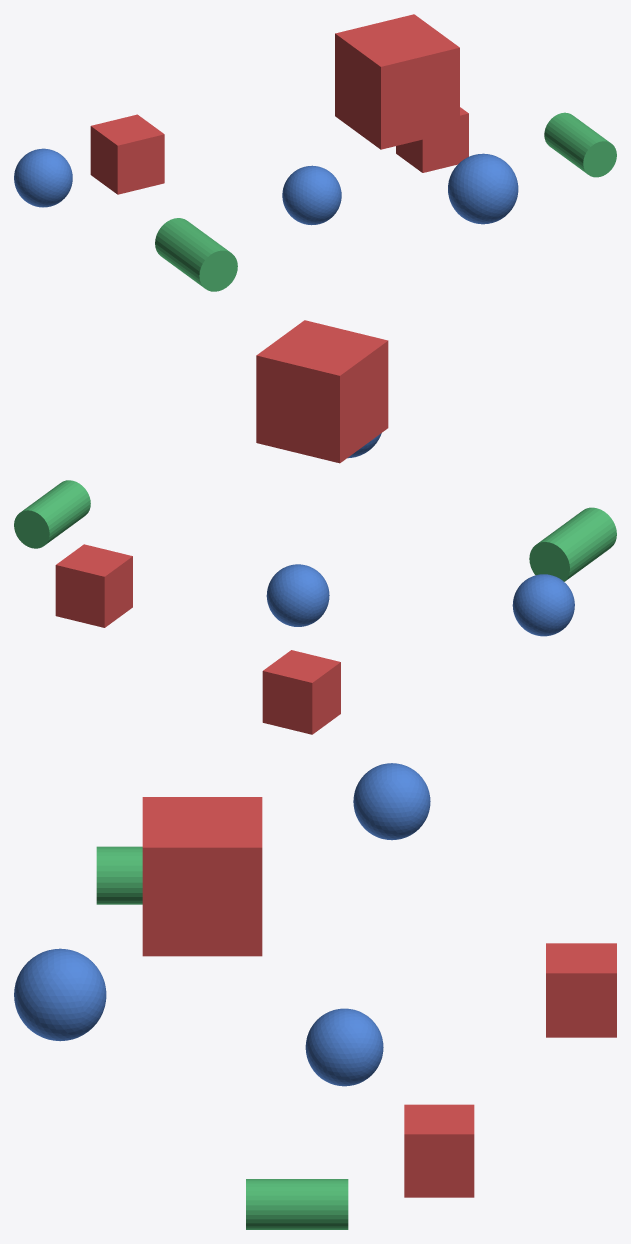
File: escena.obj
3 renders of one model, top to bottom at view 1: azimuth 30°, elevation 25°; view 2: azimuth 150°, elevation 25°; view 3: azimuth 270°, elevation 25°, orthographic. The views are drawn at different scales.
Parts seen in each view (by area): view 1: geometry_7, geometry_4, geometry_3, geometry_2, geometry_5, geometry_0, geometry_6, geometry_1; view 2: geometry_7, geometry_4, geometry_1, geometry_2, geometry_5, geometry_0, geometry_6; view 3: geometry_7, geometry_3, geometry_4, geometry_1, geometry_5, geometry_0, geometry_6, geometry_2.
Boxes of the visible parts, x1,y1,x2,y2 form: geometry_7: (335, 14, 459, 149); geometry_4: (90, 114, 164, 194); geometry_3: (448, 153, 518, 224); geometry_2: (155, 218, 237, 291); geometry_5: (544, 112, 616, 177); geometry_0: (282, 165, 341, 225); geometry_6: (14, 148, 72, 207); geometry_1: (396, 107, 468, 172); geometry_7: (256, 320, 388, 463); geometry_4: (262, 650, 340, 734); geometry_1: (55, 544, 132, 627); geometry_2: (529, 507, 616, 581); geometry_5: (14, 480, 90, 548); geometry_0: (266, 564, 329, 626); geometry_6: (512, 574, 574, 636); geometry_7: (142, 797, 262, 956); geometry_3: (14, 948, 106, 1041); geometry_4: (546, 943, 616, 1037); geometry_1: (404, 1104, 474, 1197); geometry_5: (246, 1179, 348, 1229); geometry_0: (305, 1008, 383, 1086); geometry_6: (353, 763, 430, 840); geometry_2: (96, 846, 142, 904).
Size of the model in its own units: 8.68 by 3.26 by 6.36.
